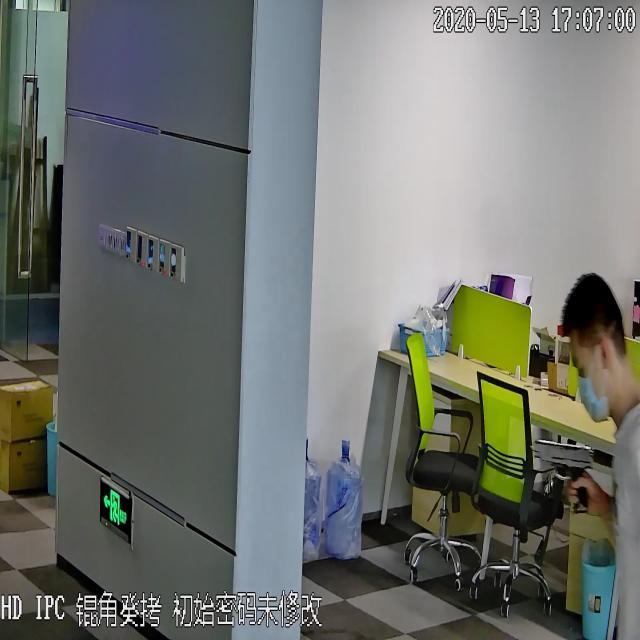gun: (528, 428, 594, 517)
